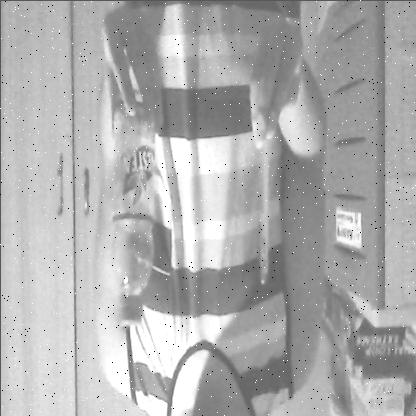Plastic Bottle: (104, 85, 157, 342)
